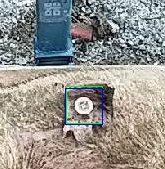text: (66, 86, 102, 123)
